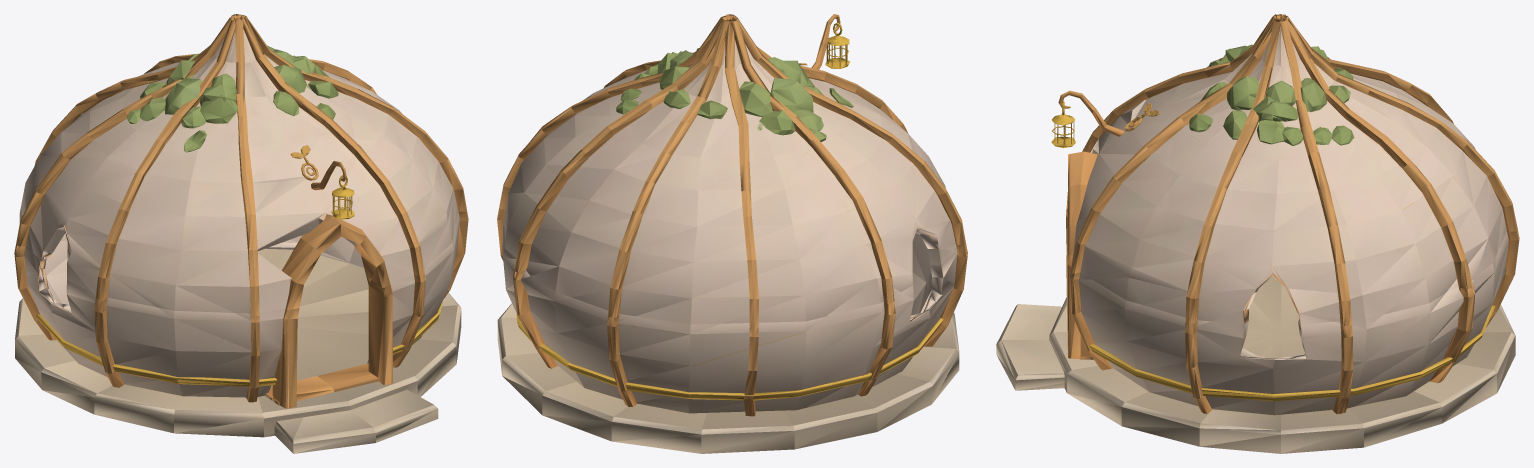
The model's file is abri.glb.
The picture shows the model from 3 angles, left to right: view 1: azimuth 30°, elevation 25°; view 2: azimuth 150°, elevation 25°; view 3: azimuth 270°, elevation 25°; orthographic projection. The views are drawn at different scales.
Parts seen in each view (by area): view 1: Toit, Base, Veilleuse; view 2: Toit, Base, Veilleuse; view 3: Toit, Base, Veilleuse.
Part boxes in pixels (x1,y1,x2,y2): Toit: [16, 14, 466, 316]; Base: [14, 206, 468, 453]; Veilleuse: [331, 175, 354, 219]; Toit: [499, 14, 965, 328]; Base: [497, 209, 967, 453]; Veilleuse: [825, 22, 849, 68]; Toit: [1054, 14, 1517, 325]; Base: [996, 208, 1519, 453]; Veilleuse: [1051, 101, 1075, 148].
Bounding box in the file's own units: 6.38 × 5.07 × 7.09.
Materials: 1 (1 with a texture image).
